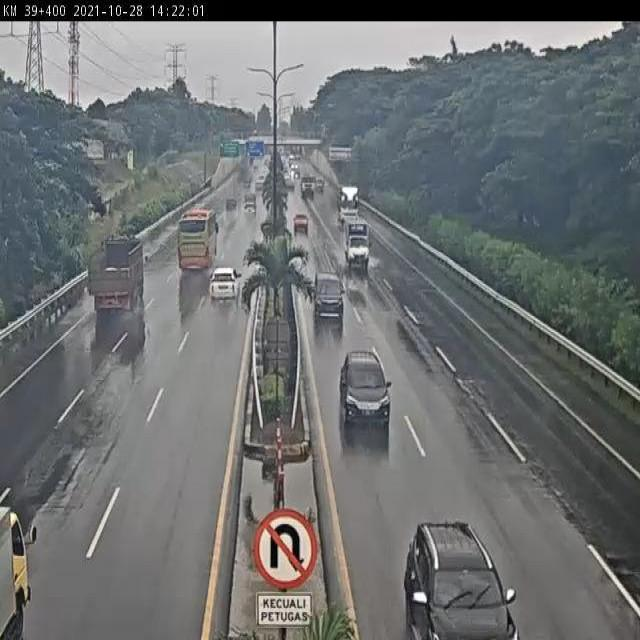big bus: (177, 207, 219, 272)
car: (337, 347, 391, 421), (311, 265, 347, 323), (208, 267, 242, 304), (292, 208, 310, 232)
truck-l-: (88, 236, 146, 311)
truck-s-: (343, 218, 373, 270)
